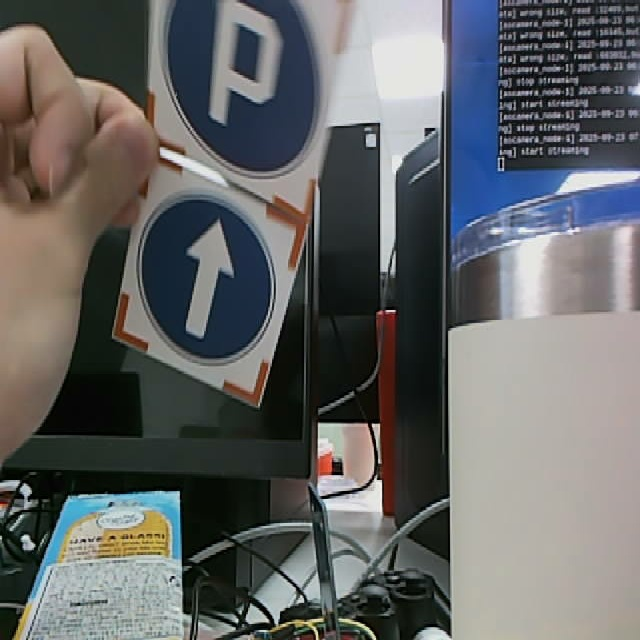parking: (146, 1, 348, 222)
straight: (119, 169, 301, 410)
